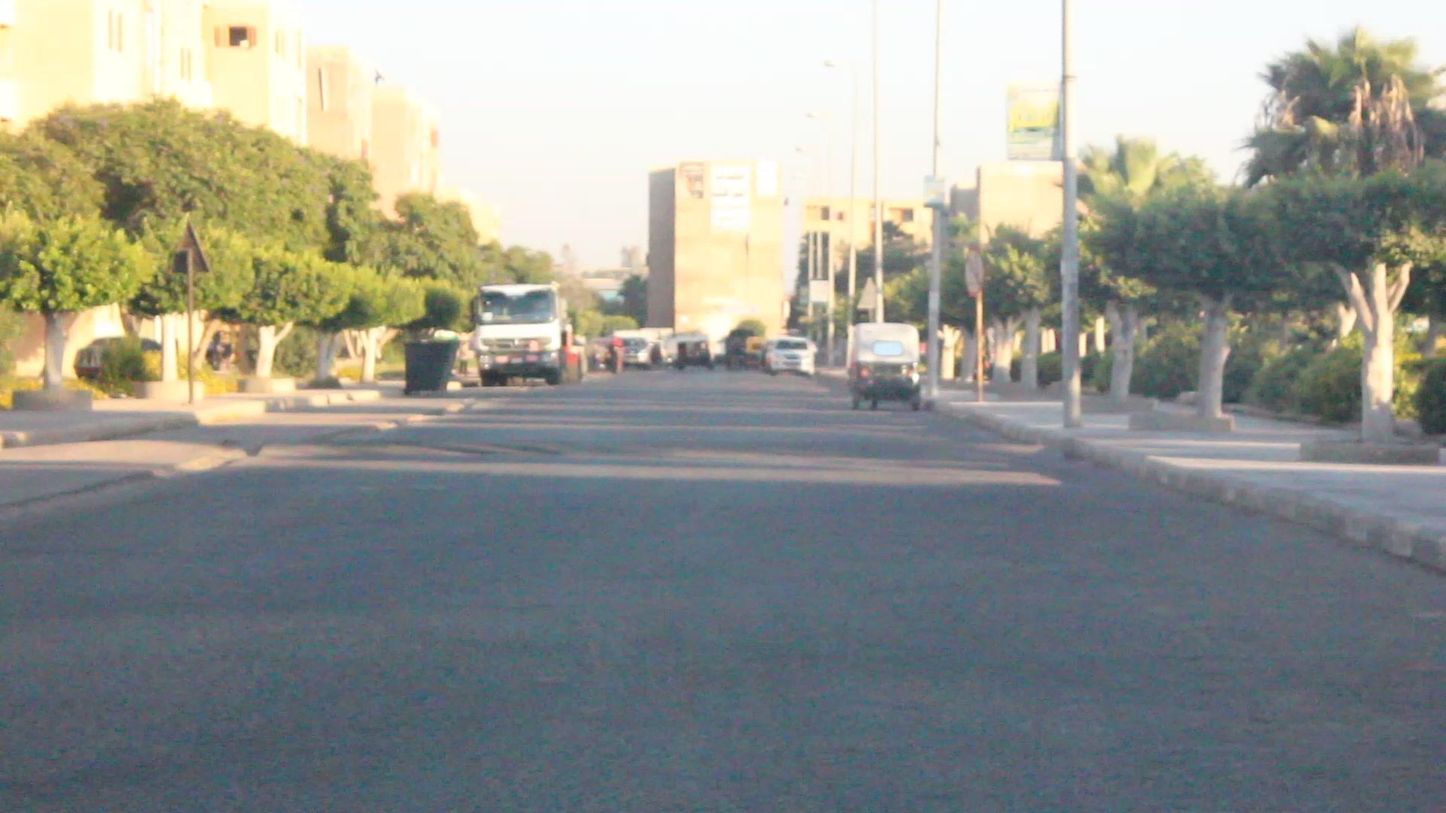Bump: (250, 442, 1101, 472)
